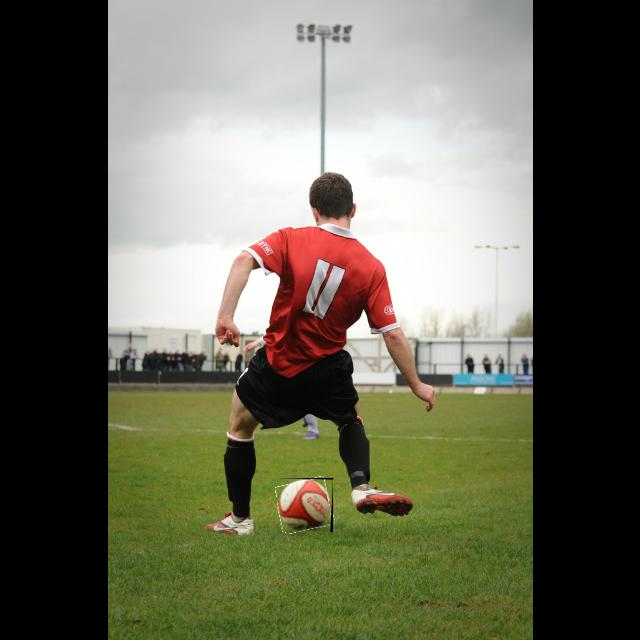Football: (277, 478, 333, 532)
